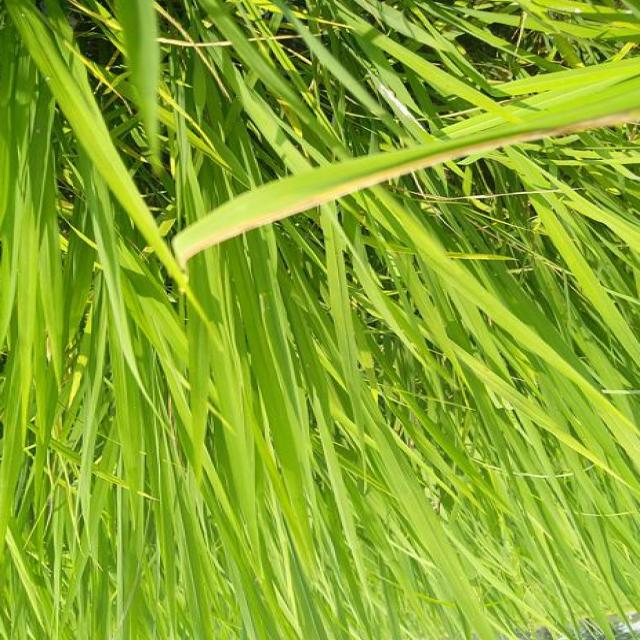Leaf Blight: (172, 111, 640, 264)
